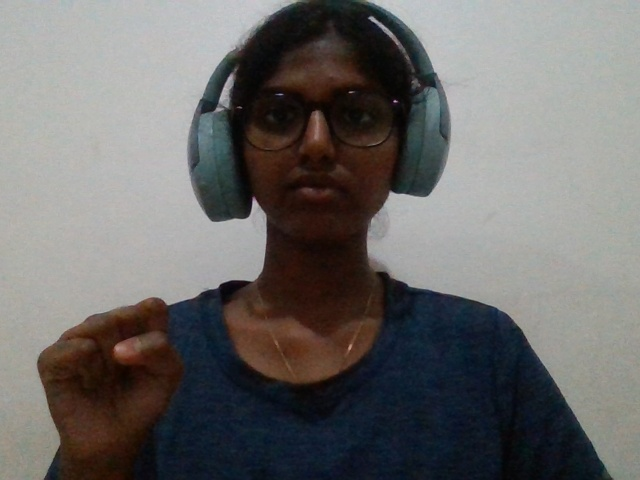Yes: (11, 292, 216, 480)
